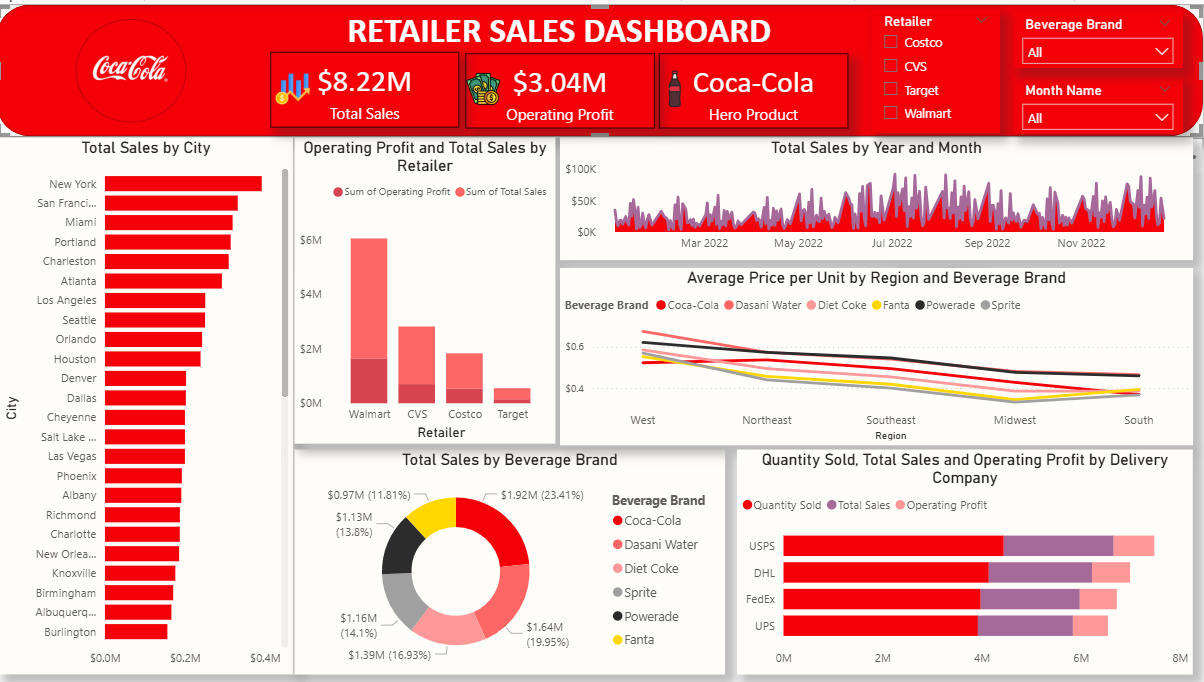

The dashboard page shown, as its layout file describes it:
{"tool":"powerbi","page":{"name":"Page 2","canvas":[1280,720],"ordinal":0},"visuals":[{"type":"shape","box":[0,0,1281.1,141.4],"z":0},{"type":"barChart","fields":{"Category":["Data.City"],"Y":["Sum(Data.Total Sales)"]},"box":[3.2,141.6,311.8,569.4],"z":1000},{"type":"donutChart","fields":{"Y":["Sum(Data.Total Sales)"],"Category":["Data.Beverage Brand"]},"box":[316.5,472.4,456.5,238.6],"z":2000},{"type":"columnChart","title":"Operating Profit and Total Sales by Retailer","fields":{"Category":["Data.Retailer"],"Y":["Sum(Data.Operating Profit)","Sum(Data.Total Sales)"]},"box":[316.5,141.6,276.8,324.5],"z":3000},{"type":"stackedAreaChart","title":"Total Sales by Year and Month","fields":{"Y":["Sum(Data.Total Sales)"],"Category":["Data.Invoice Date.Variation.Date Hierarchy.Year","Data.Invoice Date.Variation.Date Hierarchy.Quarter","Data.Invoice Date.Variation.Date Hierarchy.Month","Data.Invoice Date.Variation.Date Hierarchy.Day"]},"box":[598.1,141.6,671.2,129.9],"z":4000},{"type":"card","fields":{"Values":["Sum(Data.Operating Profit)"]},"box":[497.1,52,200.4,79.5],"z":5000},{"type":"slicer","fields":{"Values":["Data.Invoice Date.Variation.Date Hierarchy.Quarter"]},"box":[949.4,279.6,94.3,159.3],"z":6000},{"type":"card","fields":{"Values":["Data.Hero Product"]},"box":[703.6,52,200.4,79.5],"z":7000},{"type":"actionButton","box":[0,0,100,40],"z":8000},{"type":"lineChart","fields":{"Category":["Data.Region"],"Y":["Avg(Data.Price per Unit)"],"Series":["Data.Beverage Brand"]},"box":[598.1,279.9,671.2,187.7],"z":9000},{"type":"barChart","fields":{"Category":["Data.Delivery Company"],"Y":["Sum(Data.Units Sold)","Sum(Data.Total Sales)","Sum(Data.Operating Profit)"]},"box":[785.8,472.4,483.5,238.6],"z":10000},{"type":"slicer","fields":{"Values":["Data.Beverage Brand"]},"box":[1078.4,8,180,60],"z":11000},{"type":"textbox","box":[281.5,0,631.5,57.3],"z":12000},{"type":"card","fields":{"Values":["Sum(Data.Total Sales)"]},"box":[291.1,51.6,200,80],"z":13000},{"type":"slicer","fields":{"Values":["Data.Retailer"]},"box":[928.9,4.8,135.2,132],"z":14000},{"type":"slicer","fields":{"Values":["Data.Month Name"]},"box":[1078.4,77.9,180,60],"z":15000},{"type":"shape","box":[84.3,15.9,117.7,109.8],"z":16000},{"type":"image","box":[49.3,28.6,186.1,79.5],"z":17000},{"type":"textbox","box":[497.9,70,130.4,71.6],"z":18000},{"type":"image","box":[493.1,65.2,47,50],"z":19000},{"type":"image","box":[291.1,65.2,47,50],"z":20000},{"type":"image","box":[695.1,65.2,49.3,49.3],"z":21000}]}

Visuals, with their boxes in screenshot pixels (x1, y1, x2, y2), scaled from the page's 1280x720 canvas onto the 1204x682 screenshot:
shape: box=[0, 0, 1203, 134]
barChart - Data.City x Sum(Data.Total Sales): box=[3, 134, 296, 673]
donutChart - Sum(Data.Total Sales) x Data.Beverage Brand: box=[298, 447, 727, 673]
"Operating Profit and Total Sales by Retailer" columnChart: box=[298, 134, 558, 442]
"Total Sales by Year and Month" stackedAreaChart: box=[563, 134, 1194, 257]
card - Sum(Data.Operating Profit): box=[468, 49, 656, 125]
slicer - Data.Invoice Date.Variation.Date Hierarchy.Quarter: box=[893, 265, 982, 416]
card - Data.Hero Product: box=[662, 49, 850, 125]
actionButton: box=[0, 0, 94, 38]
lineChart - Data.Region x Avg(Data.Price per Unit): box=[563, 265, 1194, 443]
barChart - Data.Delivery Company x Sum(Data.Units Sold): box=[739, 447, 1194, 673]
slicer - Data.Beverage Brand: box=[1014, 8, 1184, 64]
textbox: box=[265, 0, 859, 54]
card - Sum(Data.Total Sales): box=[274, 49, 462, 125]
slicer - Data.Retailer: box=[874, 5, 1001, 130]
slicer - Data.Month Name: box=[1014, 74, 1184, 131]
shape: box=[79, 15, 190, 119]
image: box=[46, 27, 221, 102]
textbox: box=[468, 66, 591, 134]
image: box=[464, 62, 508, 109]
image: box=[274, 62, 318, 109]
image: box=[654, 62, 700, 108]
